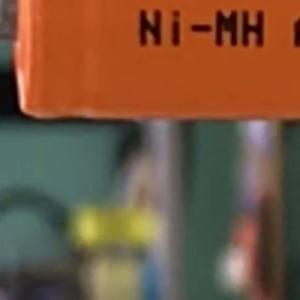keyword: (129, 1, 274, 56)
